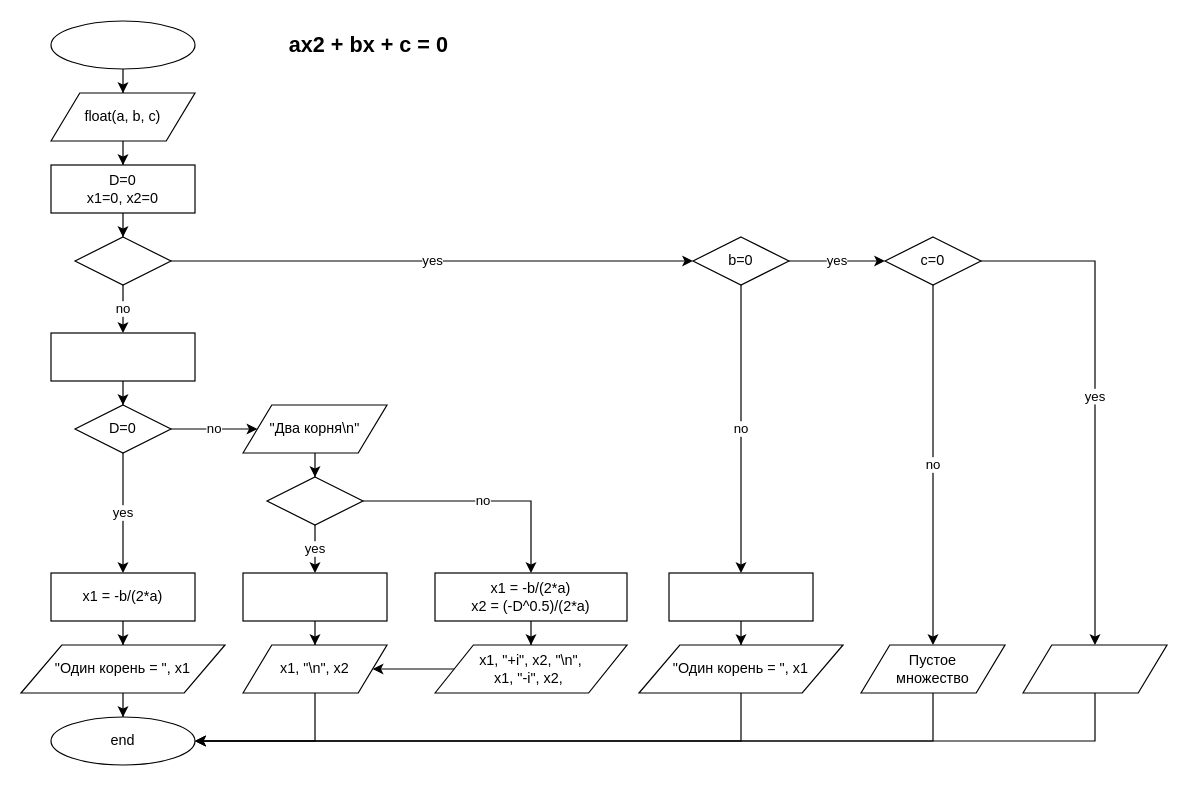
Image size: 1188x786. Some labels were removed from this diagram. The shapes that lost their labels are listed below. From the top down, each one's box as (x1, y1, x2, y2) in pixels, then its label:
(50, 20, 195, 69): start
(74, 236, 171, 285): a=0
(50, 332, 195, 381): D=b*b-4*a*c
(266, 476, 363, 525): D>0
(242, 572, 387, 621): x1 = (-b+D^0.5)/(2*a) x2 = (-b-D^0.5)/(2*a)
(668, 572, 813, 621): x1 = -c/b
(1022, 644, 1167, 693): Бесконечность
